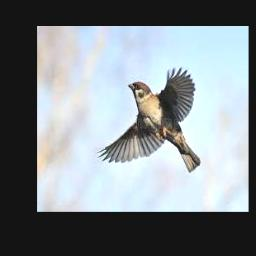Sparrow: (97, 66, 200, 173)
